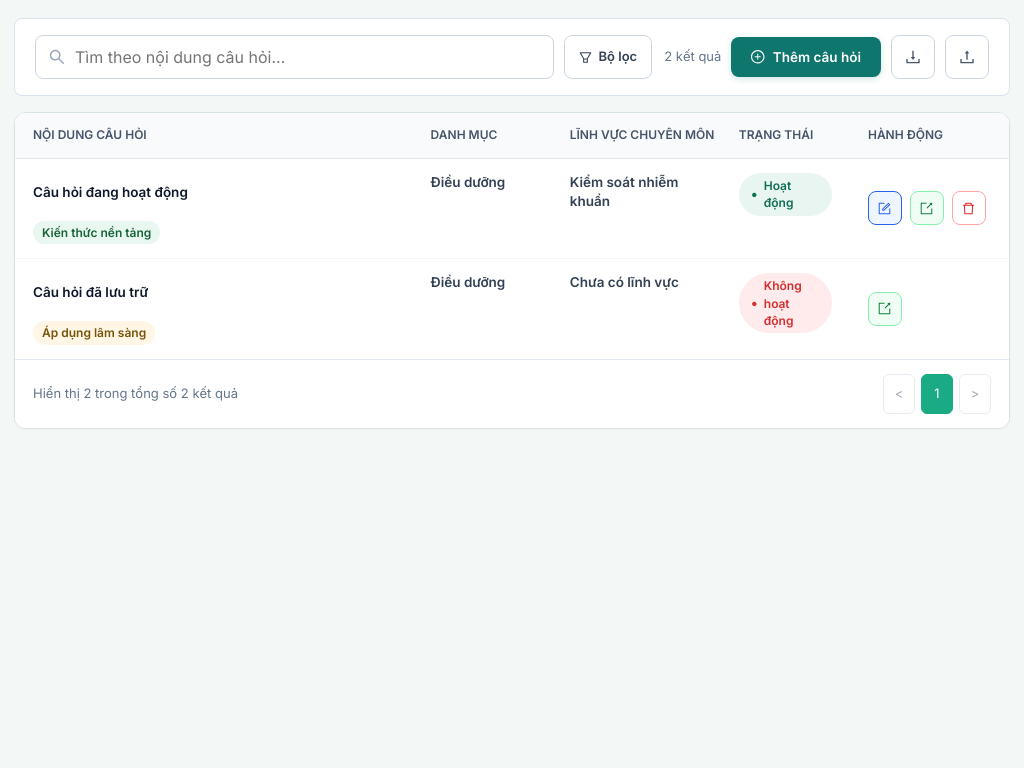
QuestionBankListPage - danh sách › hiển thị câu đã lưu trữ và lọc theo trạng thái hoạt động
Expected: the button "Câu hỏi đang hoạt động" is shown, [33,173,395,213]
Expected: the text "Không hoạt động" is shown, [739,273,832,333]
What coordinates should you click on to do the following:
click the button "Bộ lọc"
I would click on:
 (608, 57)
Its box is [564,35,652,79].
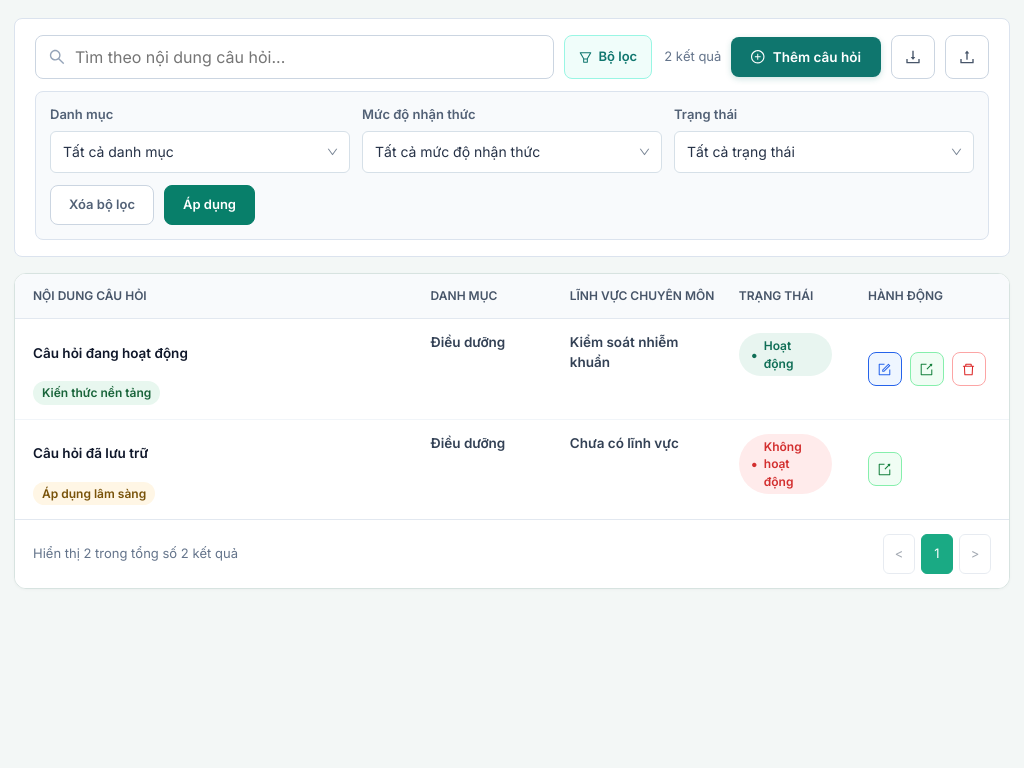
What coordinates should you click on to do the following:
click the dropdown labelled "Trạng thái"
I would click on:
 (824, 152)
Its box is [674,130,974,172].
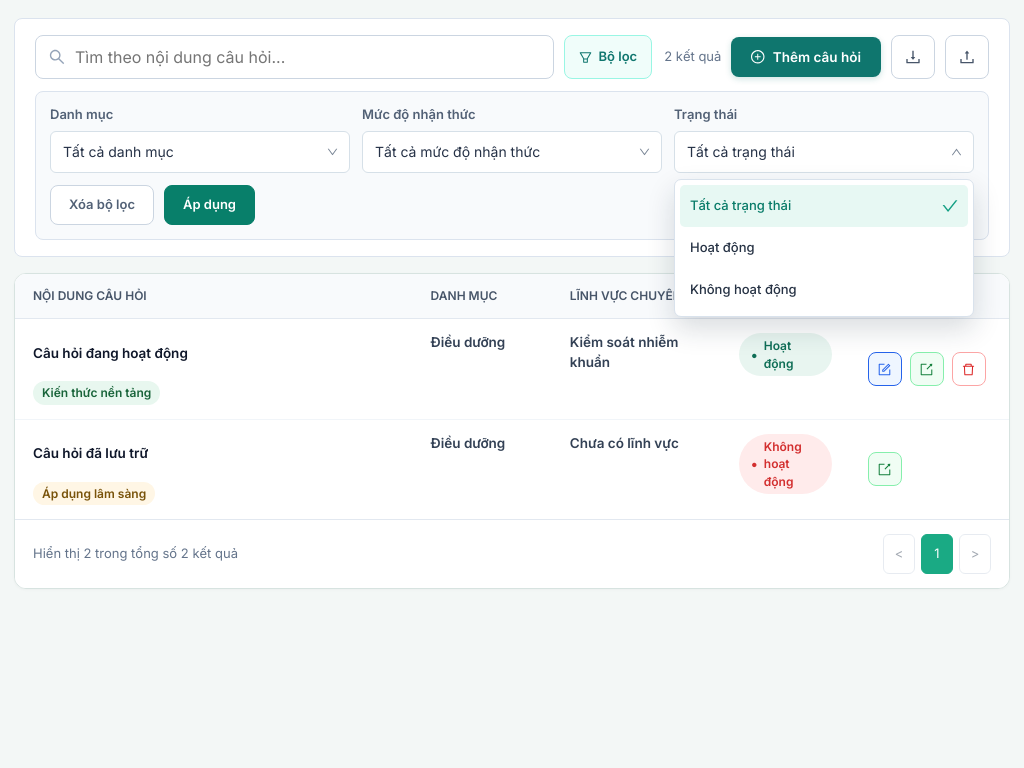
What coordinates should you click on to do the following:
click the option "Không hoạt động"
I would click on:
 (743, 289)
Its box is [680,268,968,310].
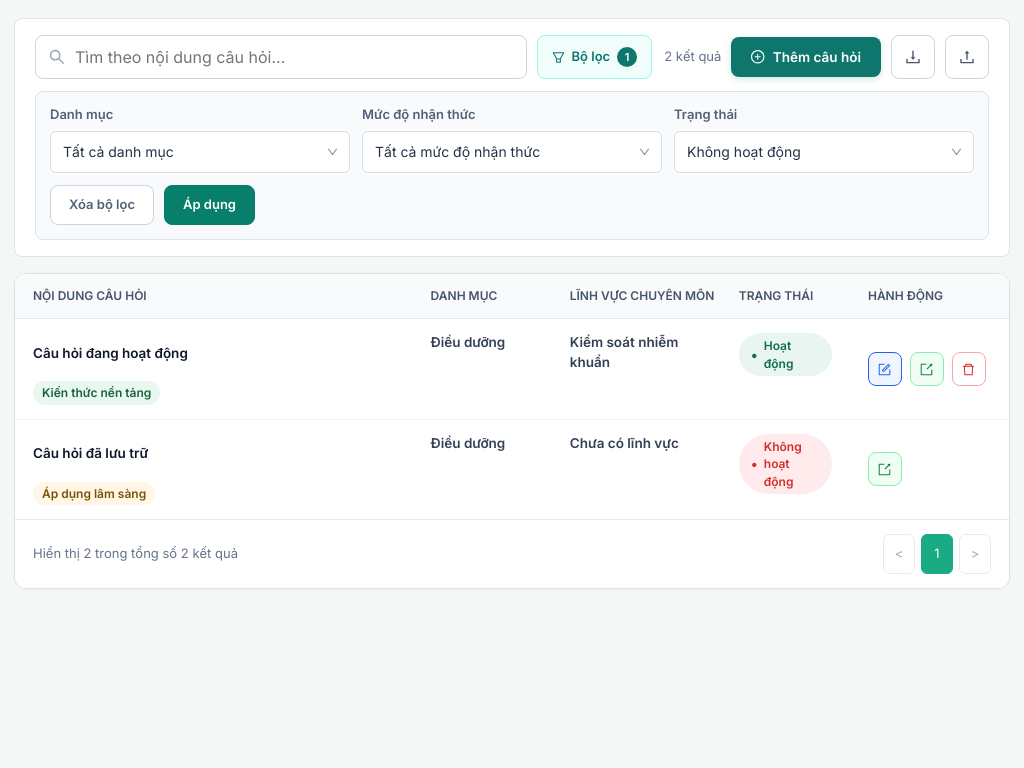
What coordinates should you click on to do the following:
click the button "Áp dụng"
I would click on:
 (210, 204)
Its box is [164,184,255,224].
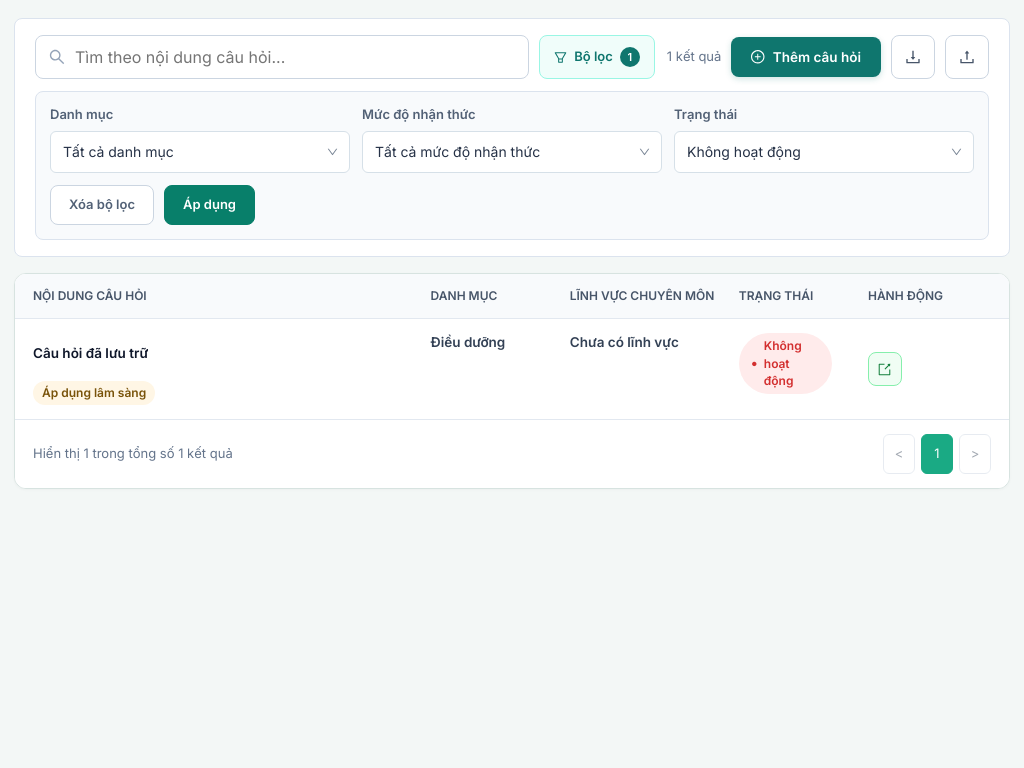
Expected: the button "Câu hỏi đã lưu trữ" is shown, [33,333,395,373]
Result: the button "Câu hỏi đang hoạt động" is gone
